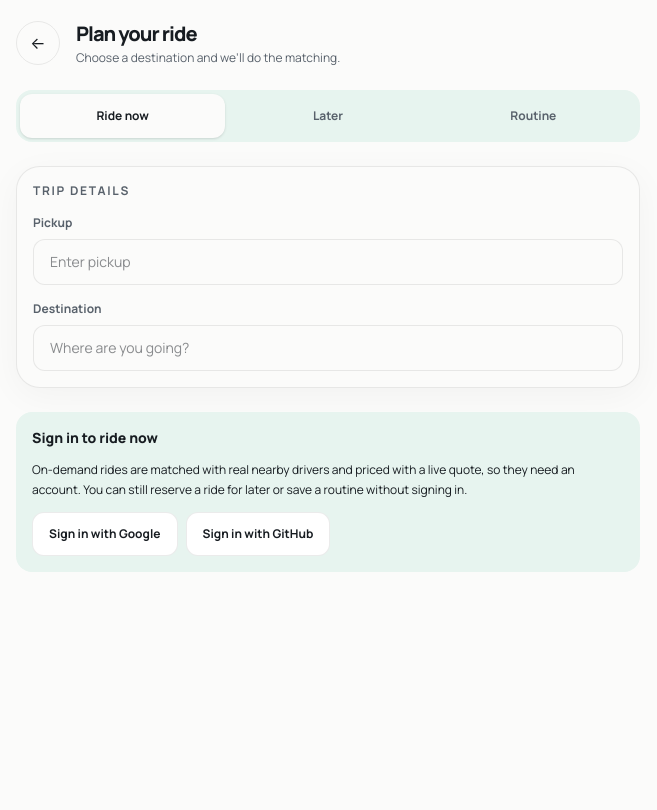
NewRide (signed out) › requires a pickup and destination before a reservation can be saved
Click the button "Later".
click(328, 116)  # box [225,94,431,138]
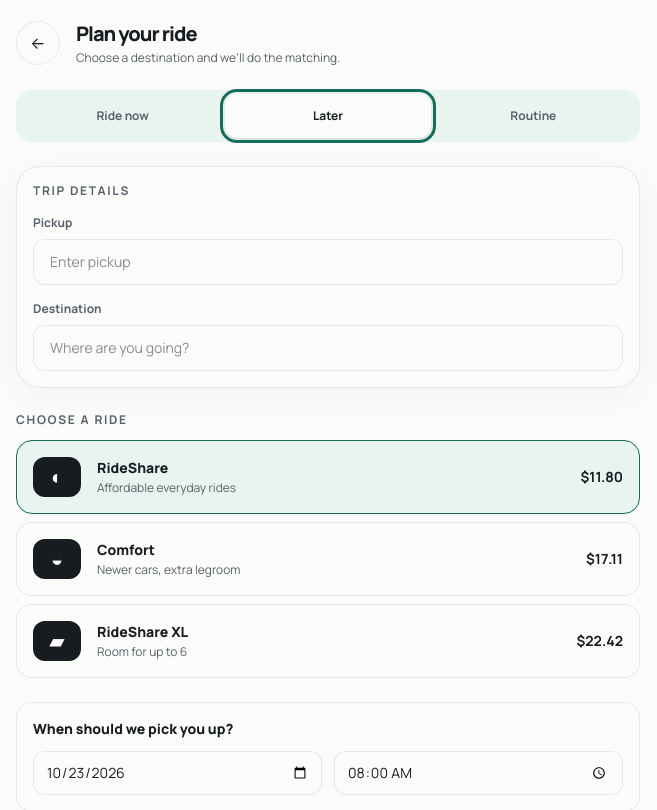
Type "Home" into the dropdown with placeholder "Enter pickup".
click(328, 262); type("Home")  # box [33,239,623,285]
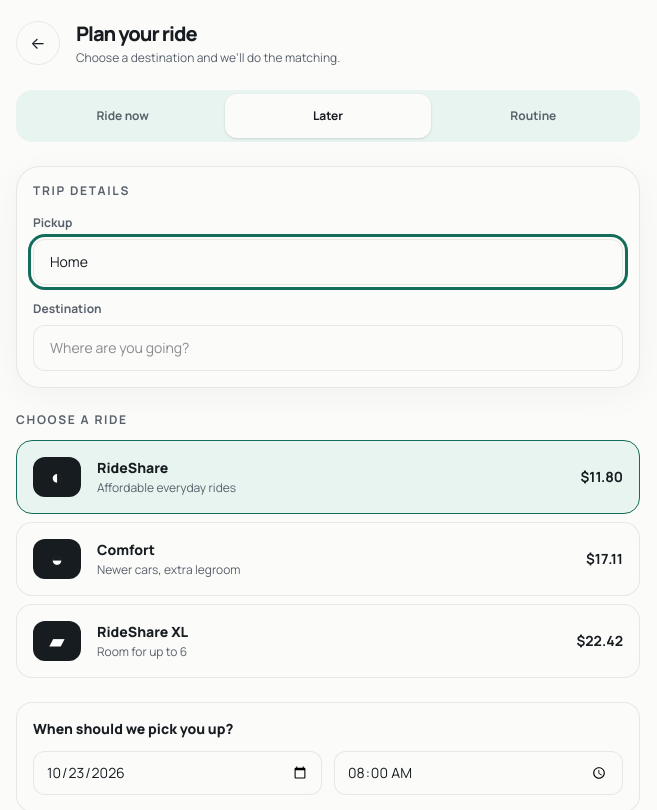
Type "Airport" into the dropdown with placeholder "Where are you going?".
click(328, 348); type("Airport")  # box [33,325,623,371]
(page scrolled)
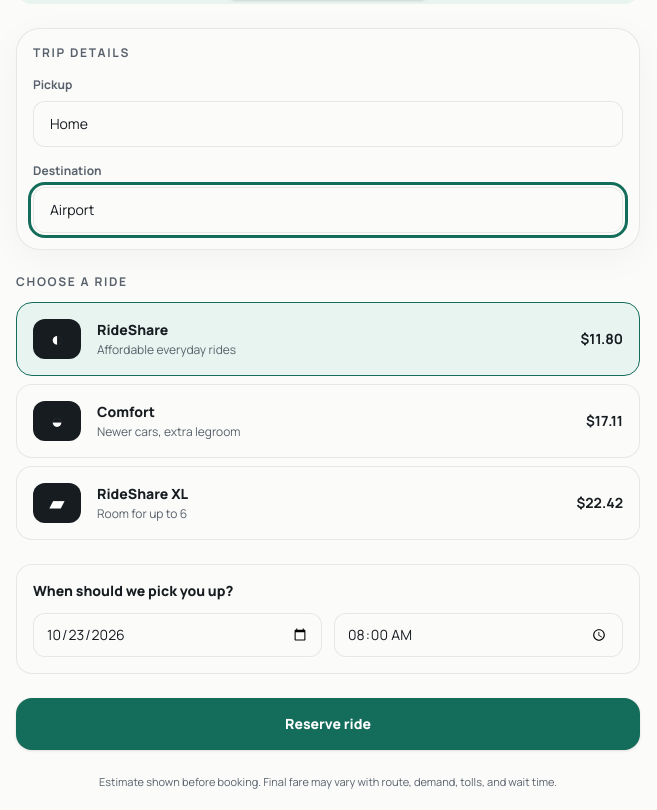
Now the button "Reserve ride" is enabled, box [16,698,640,750]
